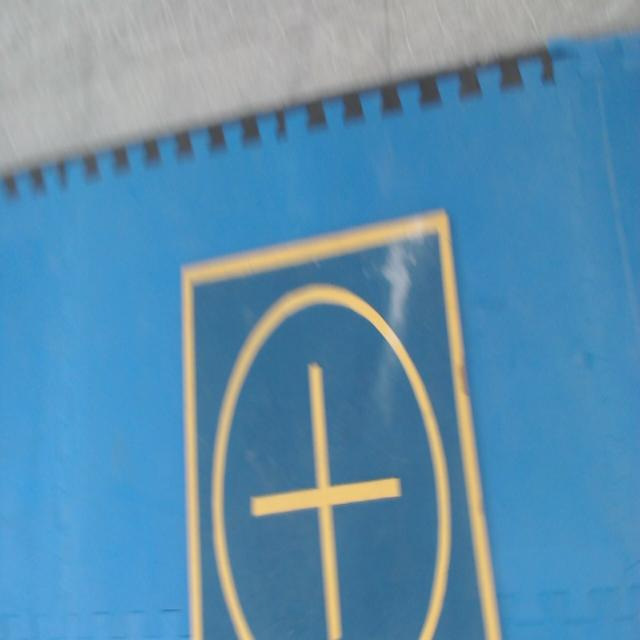base_pouso: (181, 210, 503, 639)
